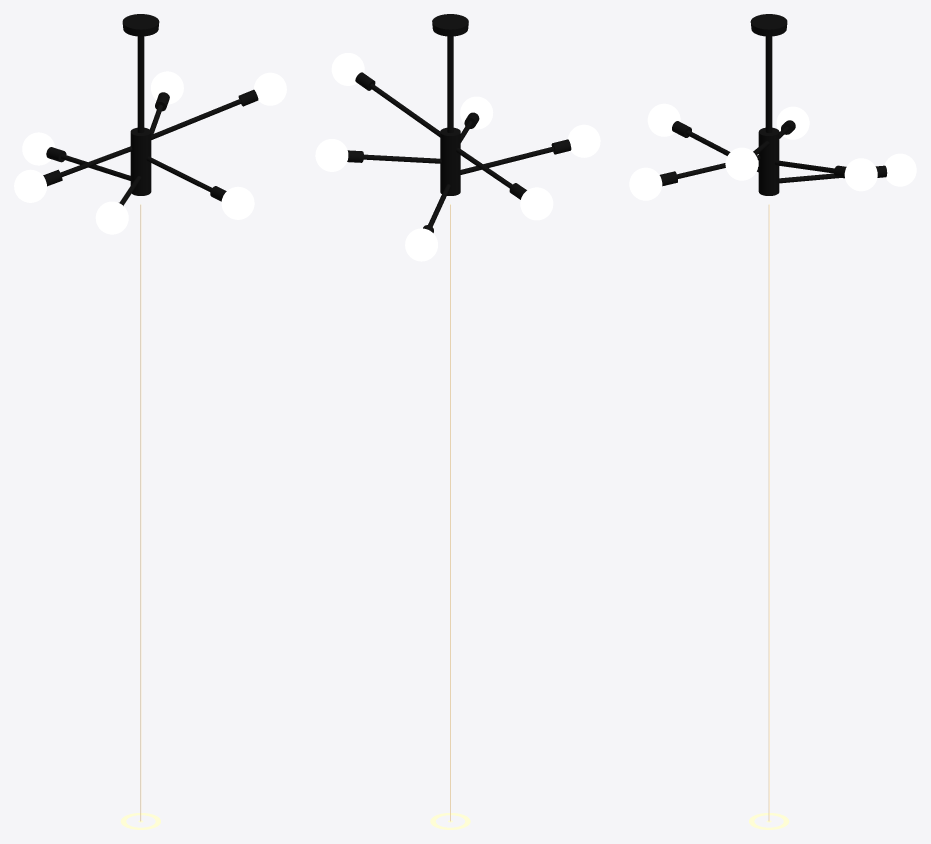
Rendered from lustre-industriel-noir-6-lampes-salon-modele-neravio.glb.
3 views of the same model, side by side, from view 1: azimuth 30°, elevation 25°; view 2: azimuth 150°, elevation 25°; view 3: azimuth 270°, elevation 25° (orthographic).
Parts seen in each view (by area): view 1: lustre-industriel-noir-6-lampes-salon-modele-neravio, reperage-fil; view 2: lustre-industriel-noir-6-lampes-salon-modele-neravio, reperage-fil; view 3: lustre-industriel-noir-6-lampes-salon-modele-neravio, reperage-fil.
Part boxes in pixels (bbox=[...]): lustre-industriel-noir-6-lampes-salon-modele-neravio: bbox=[14, 14, 286, 234]; reperage-fil: bbox=[140, 204, 141, 821]; lustre-industriel-noir-6-lampes-salon-modele-neravio: bbox=[315, 14, 600, 261]; reperage-fil: bbox=[450, 204, 450, 821]; lustre-industriel-noir-6-lampes-salon-modele-neravio: bbox=[629, 14, 916, 200]; reperage-fil: bbox=[768, 204, 769, 821].
Size of the model in its own units: 0.7624 by 2.4 by 0.7816.
